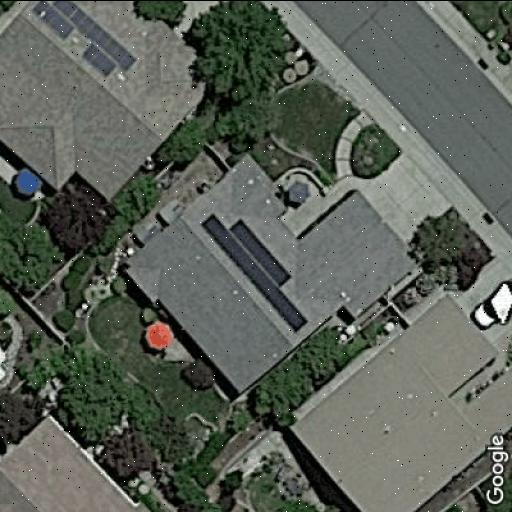solar-panel: (200, 208, 307, 336), (32, 0, 138, 77)
